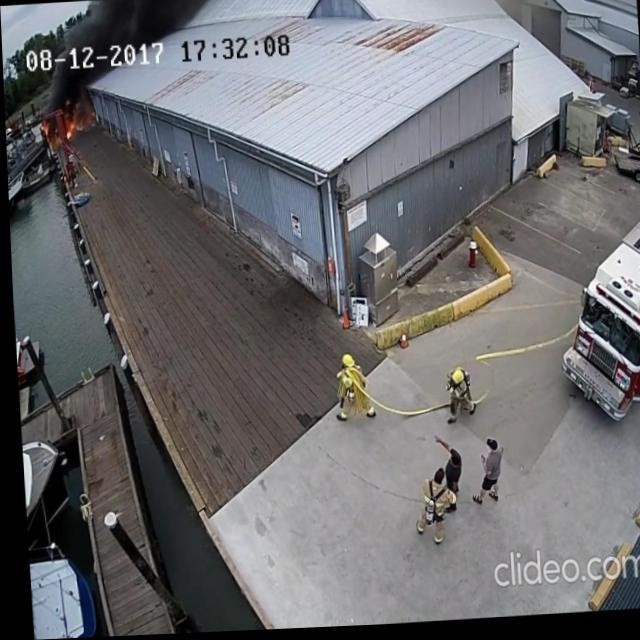fire: (60, 109, 84, 140), (35, 121, 52, 139)
